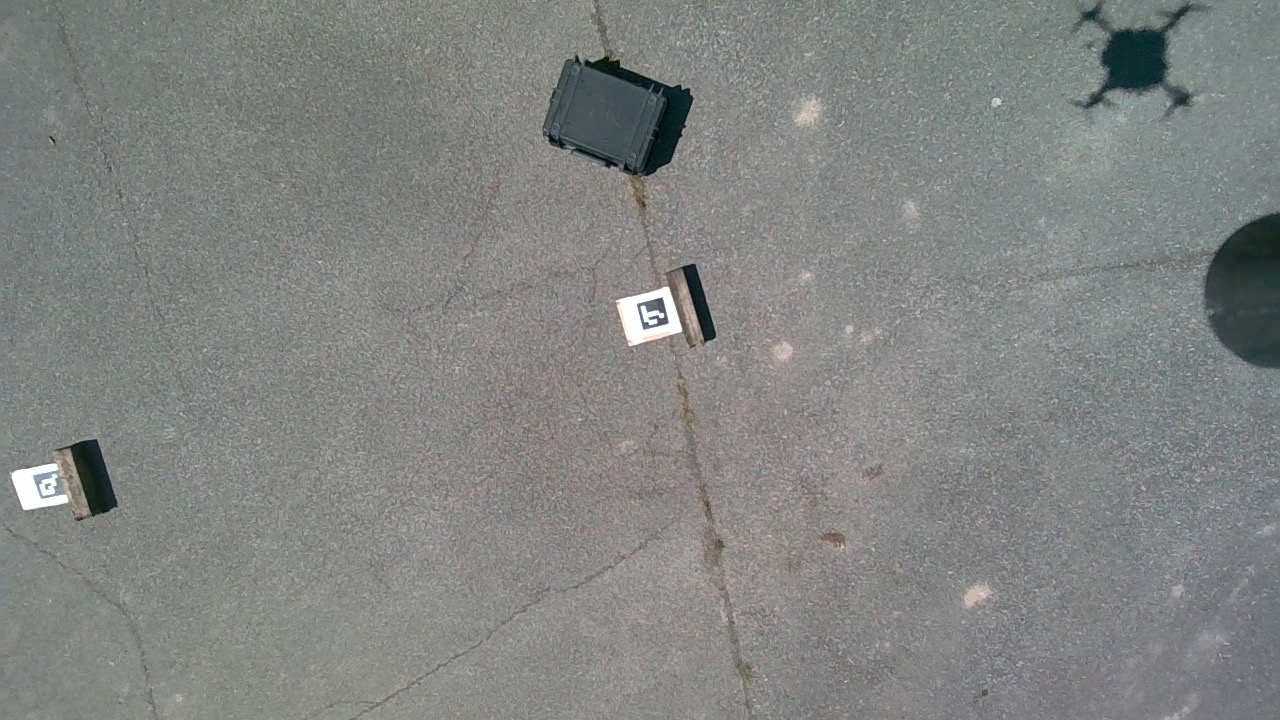rako: (544, 56, 670, 176)
